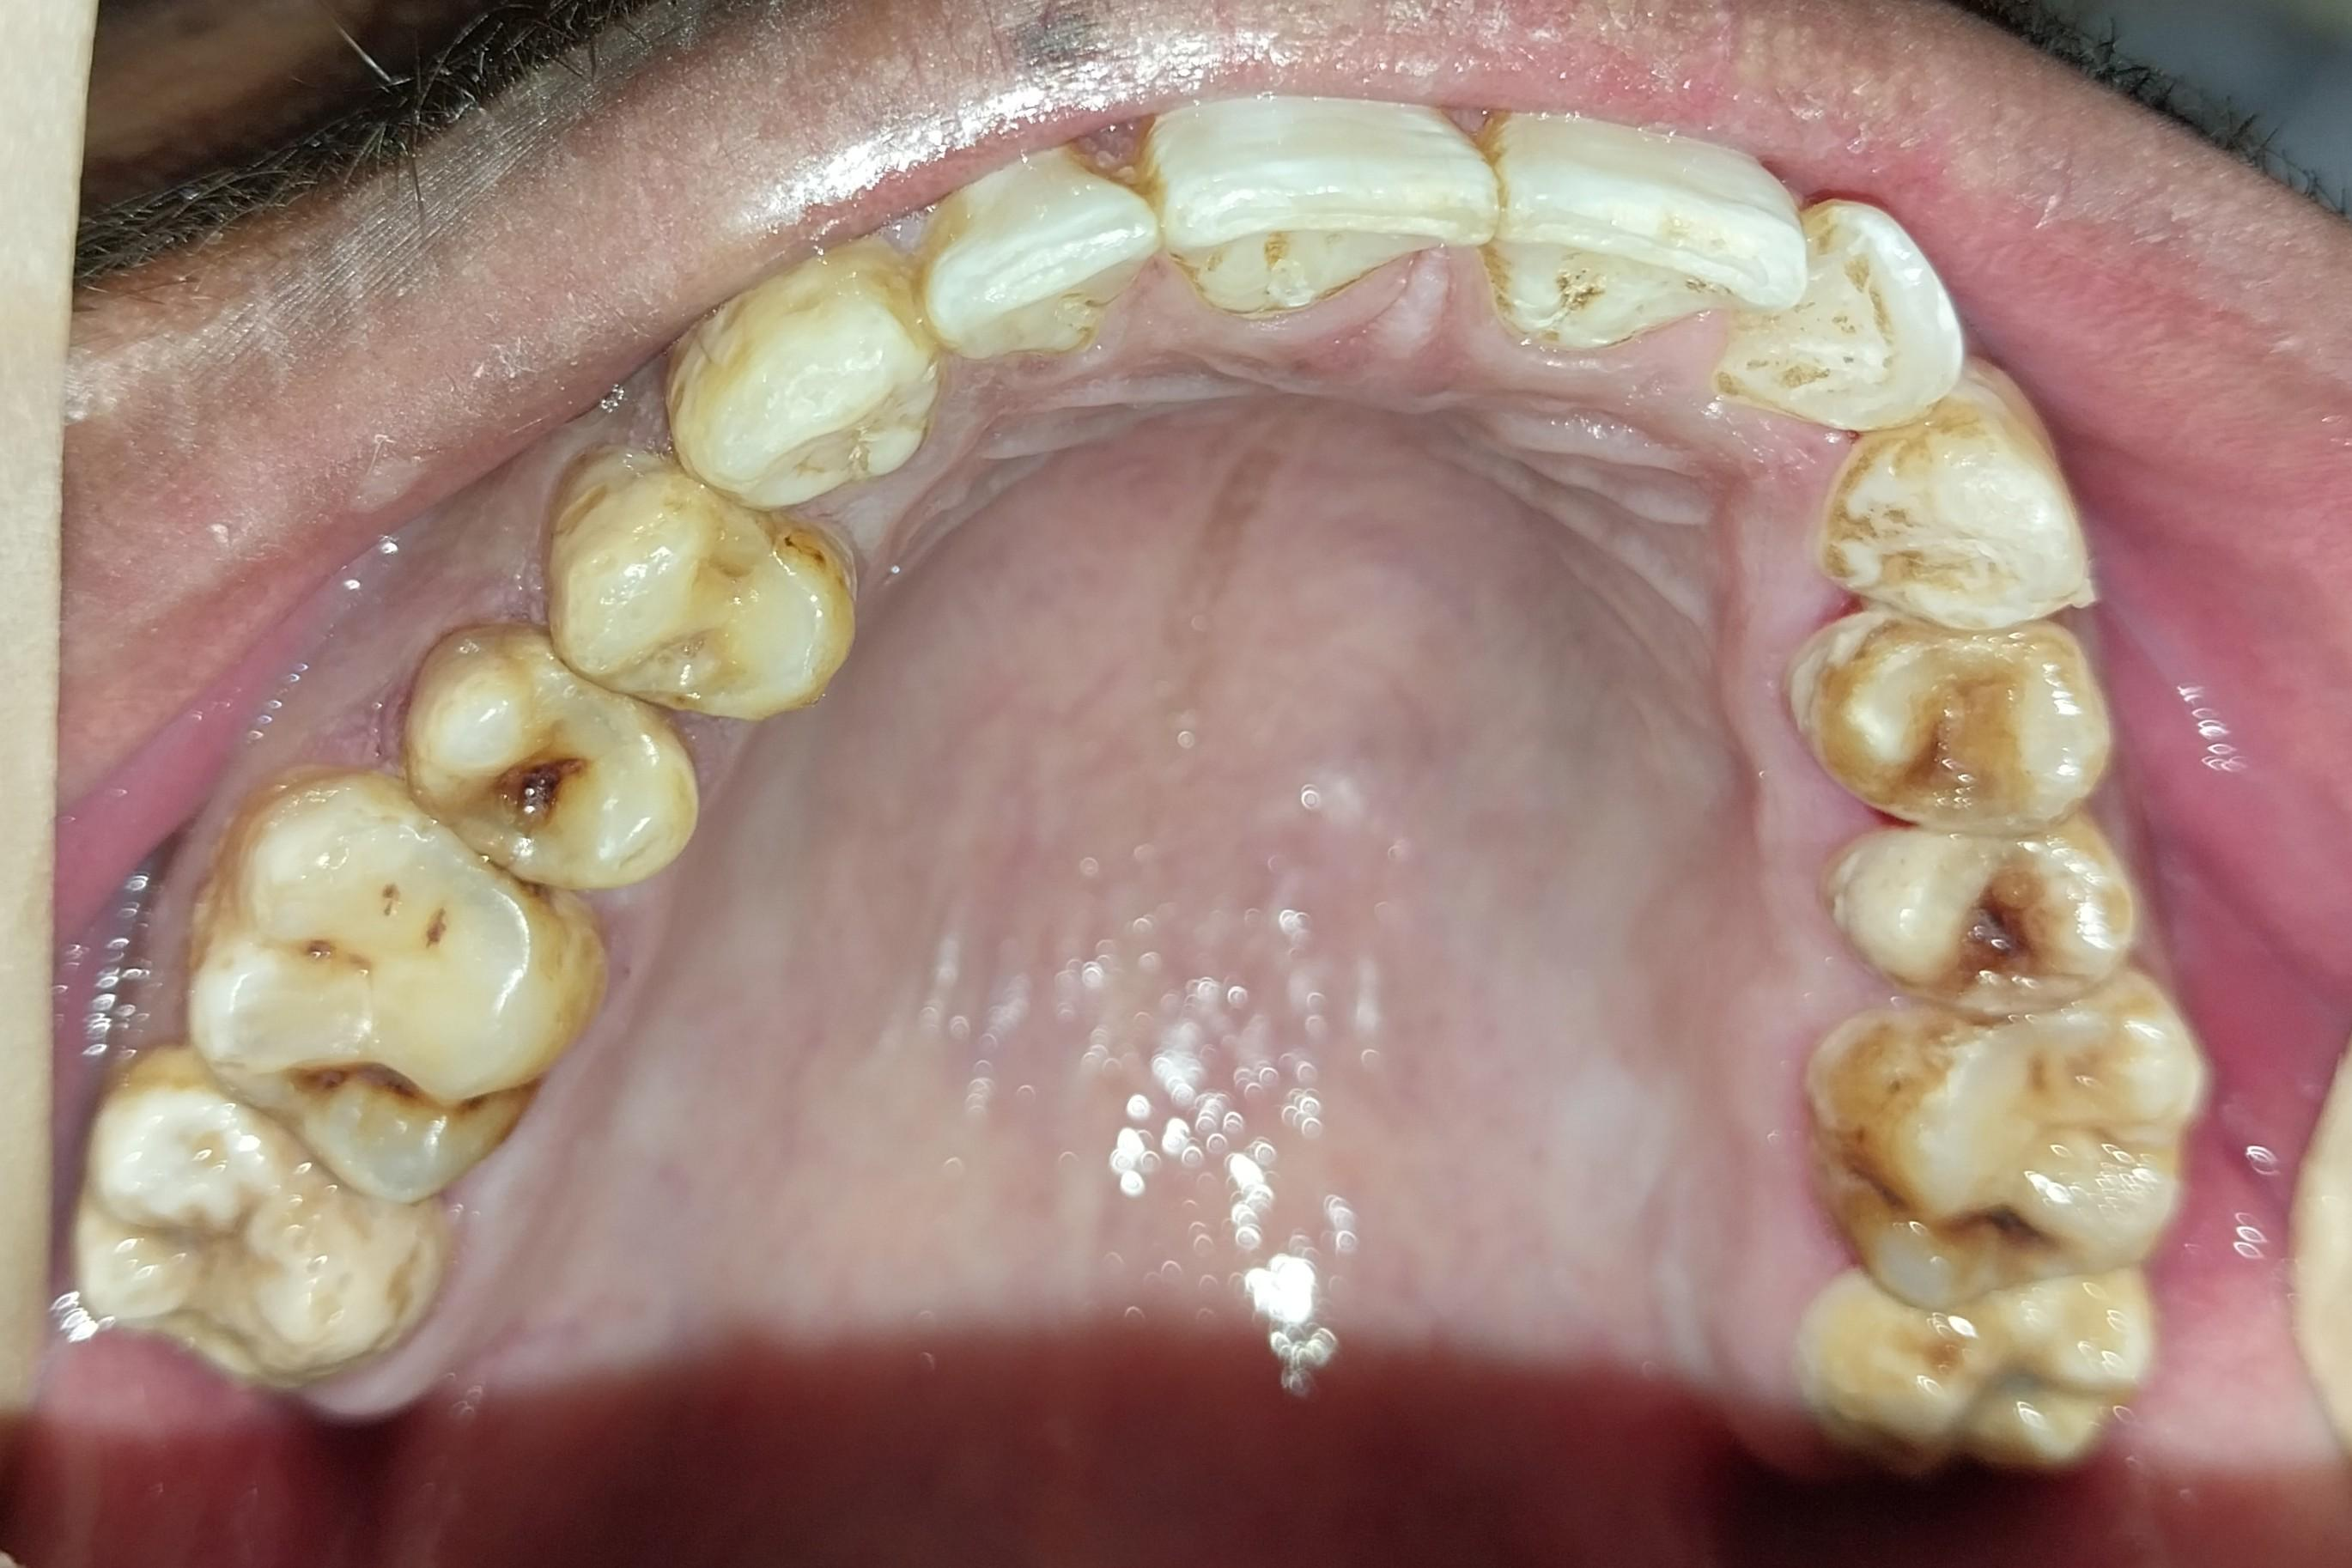D: (174, 775, 615, 1205), (1833, 963, 2203, 1315), (405, 625, 706, 894), (1814, 1250, 2168, 1476), (1825, 802, 2153, 1020)
